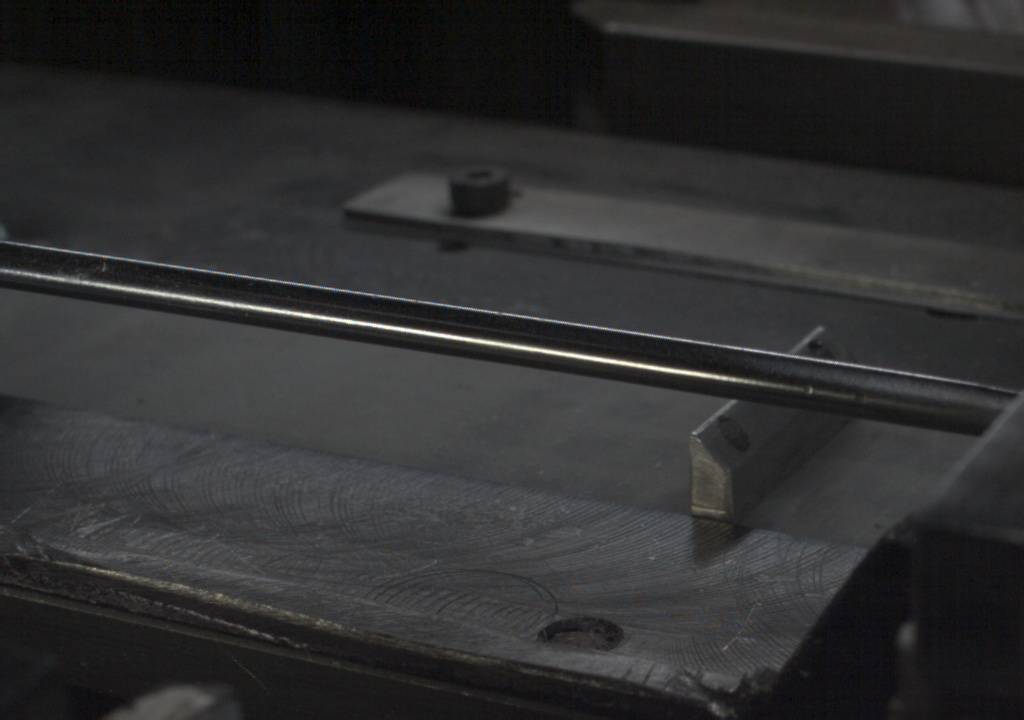empty: (176, 172, 838, 551)
